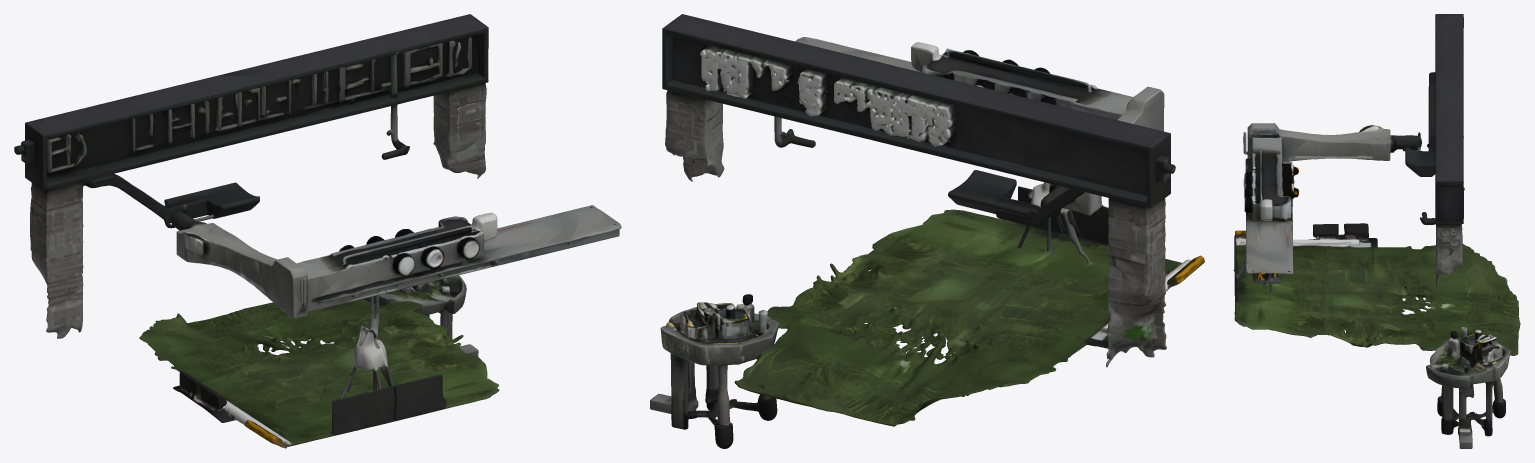
The model's file is building-shooting-gallery.glb.
The picture shows the model from 3 angles, left to right: view 1: azimuth 30°, elevation 25°; view 2: azimuth 150°, elevation 25°; view 3: azimuth 270°, elevation 25°; orthographic projection. The views are drawn at different scales.
Parts seen in each view (by area): view 1: tripo_node_b57f5caf-884a-4c74-9d44-d924b6e4eac8; view 2: tripo_node_b57f5caf-884a-4c74-9d44-d924b6e4eac8; view 3: tripo_node_b57f5caf-884a-4c74-9d44-d924b6e4eac8.
Boxes of the visible parts, <box> form: tripo_node_b57f5caf-884a-4c74-9d44-d924b6e4eac8: <box>14,14,621,448</box>; tripo_node_b57f5caf-884a-4c74-9d44-d924b6e4eac8: <box>650,14,1204,448</box>; tripo_node_b57f5caf-884a-4c74-9d44-d924b6e4eac8: <box>1233,14,1520,448</box>.
Size of the model in its own units: 5.73 by 4 by 3.9.
Materials: 1 (1 with a texture image).
